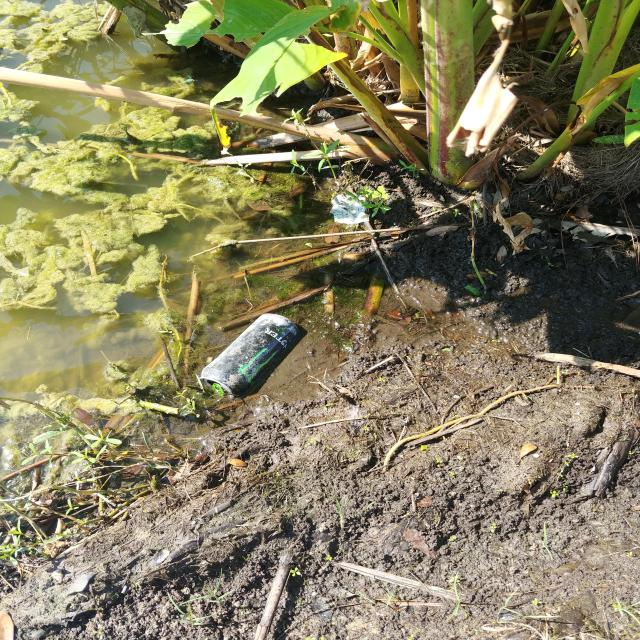litter: (191, 194, 369, 398)
